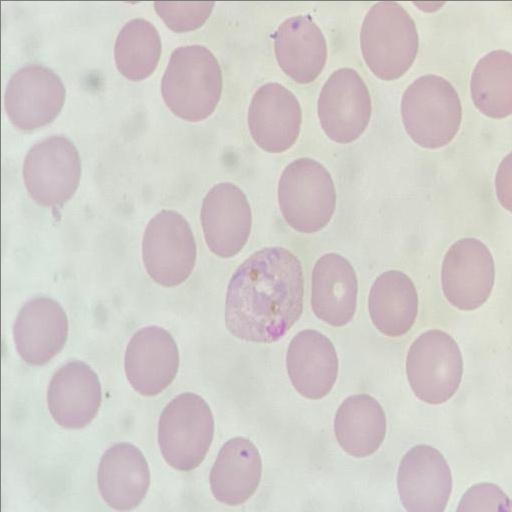Infected: (224, 246, 303, 342)
Uninfected: (160, 45, 223, 123), (359, 1, 419, 82), (141, 209, 198, 286), (157, 392, 214, 469), (400, 75, 460, 148), (21, 137, 80, 211), (277, 158, 335, 232), (317, 68, 371, 144), (405, 330, 461, 403), (200, 182, 252, 257), (5, 64, 64, 130), (440, 238, 493, 311), (123, 326, 178, 396), (46, 361, 102, 429), (12, 297, 67, 366), (247, 83, 301, 153), (284, 330, 337, 399), (310, 253, 359, 327), (273, 15, 327, 82), (96, 443, 150, 510), (396, 445, 451, 510), (208, 437, 260, 505), (333, 394, 387, 456), (367, 270, 417, 336), (470, 49, 512, 118), (114, 19, 161, 80)
